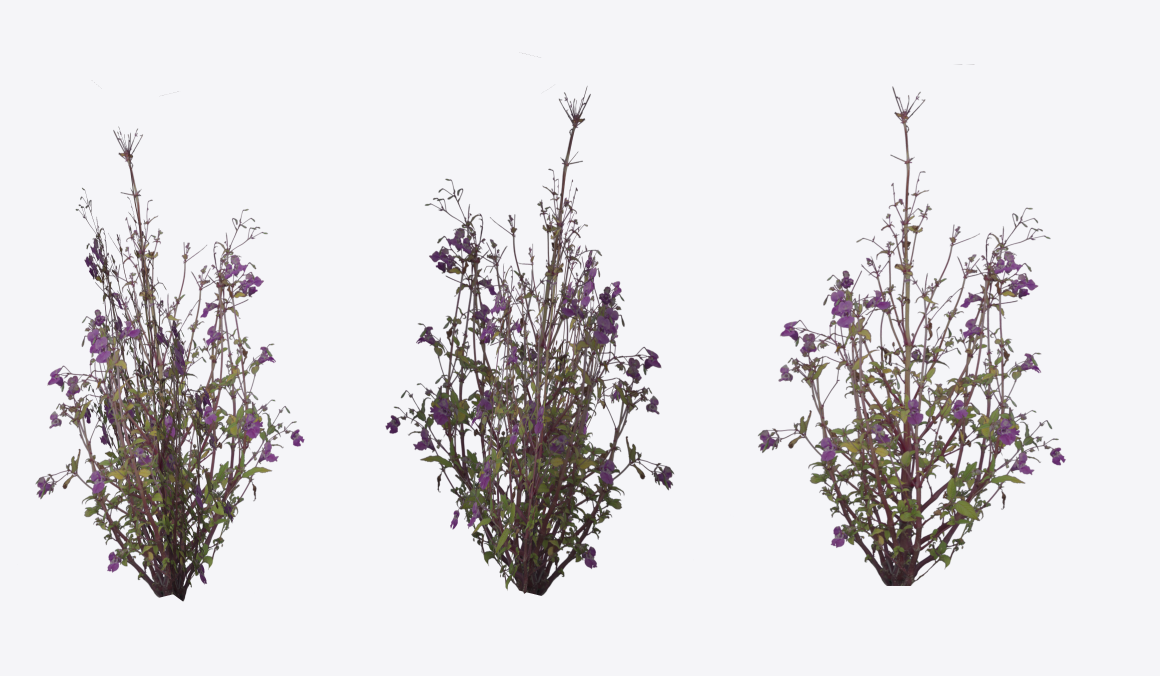
The model's file is heather_purple.glb.
3 views of the same model, side by side, from view 1: azimuth 30°, elevation 25°; view 2: azimuth 150°, elevation 25°; view 3: azimuth 270°, elevation 25° (orthographic). The views are drawn at different scales.
Visible parts, largest first — view 1: Grass 9; view 2: Grass 9; view 3: Grass 9.
Part boxes in pixels (bbox=[...]): Grass 9: bbox=[35, 126, 304, 601]; Grass 9: bbox=[385, 86, 673, 595]; Grass 9: bbox=[758, 64, 1065, 585].
Bounding box in the file's own units: 1.02 × 1.56 × 1.2.
1 material, 1 textured.
